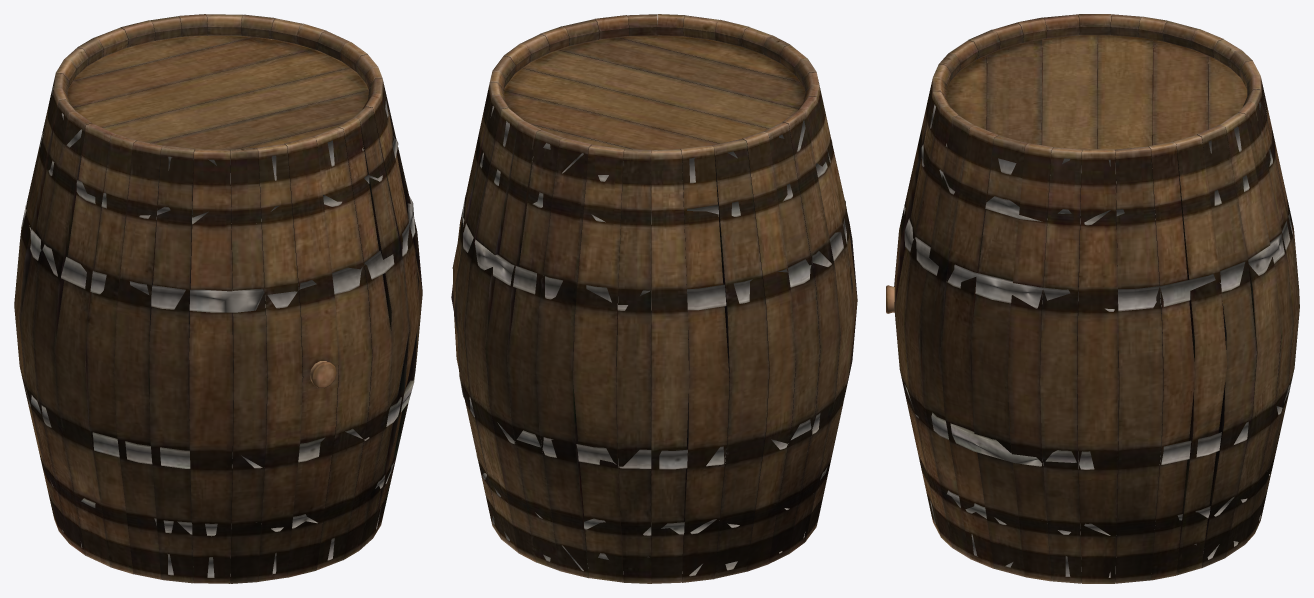
Rendered from wine_barrel_01.glb.
3 renders of one model, left to right at view 1: azimuth 30°, elevation 25°; view 2: azimuth 150°, elevation 25°; view 3: azimuth 270°, elevation 25°, orthographic.
Parts seen in each view (by area): view 1: wine_barrel_01, wine_barrel_01_Lid, wine_barrel_01_bung; view 2: wine_barrel_01, wine_barrel_01_Lid; view 3: wine_barrel_01, wine_barrel_01_Lid.
Part boxes in pixels (bbox=[...]): wine_barrel_01: bbox=[14, 14, 422, 583]; wine_barrel_01_Lid: bbox=[67, 36, 368, 149]; wine_barrel_01_bung: bbox=[310, 361, 336, 388]; wine_barrel_01: bbox=[451, 14, 857, 583]; wine_barrel_01_Lid: bbox=[503, 36, 805, 152]; wine_barrel_01: bbox=[894, 14, 1299, 583]; wine_barrel_01_Lid: bbox=[946, 35, 1247, 149].
Bounding box in the file's own units: 0.7419 × 0.8695 × 0.756.
Materials: 1 (1 with a texture image).
